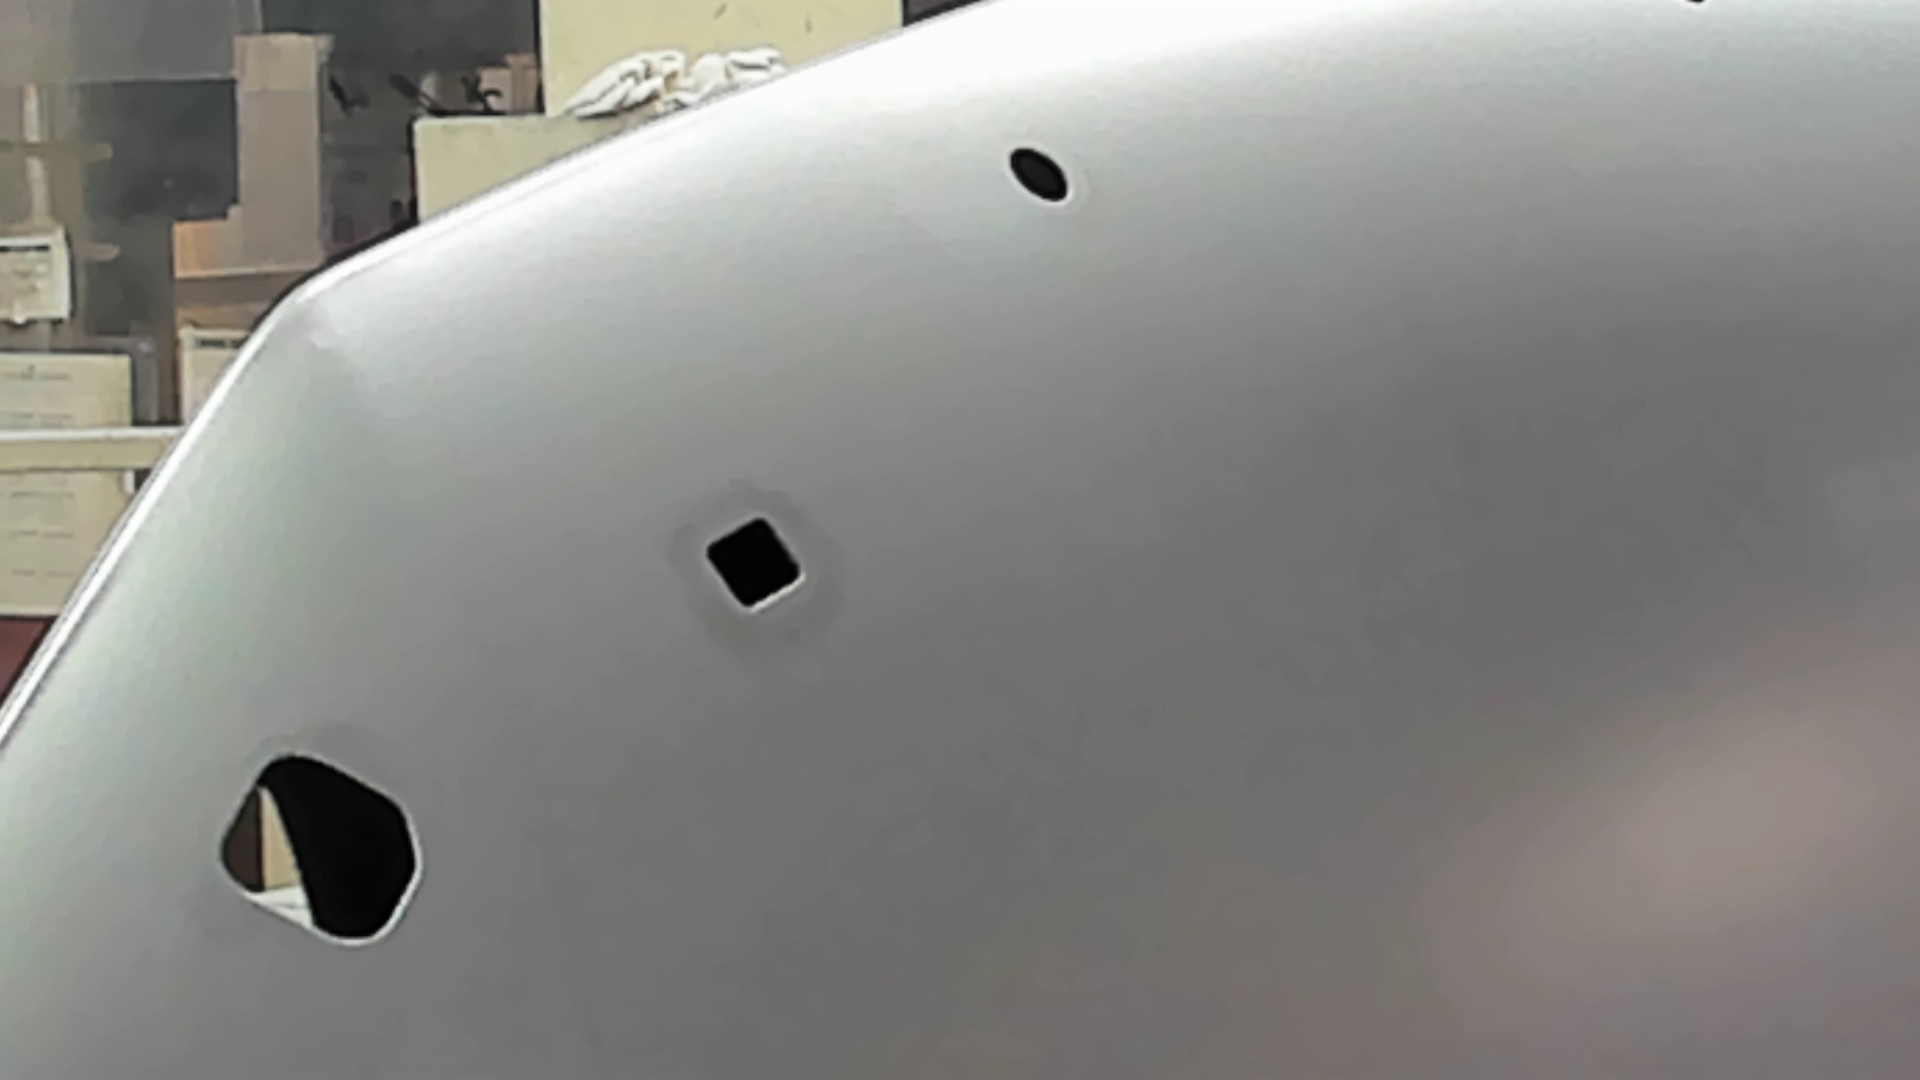chico: (1006, 146, 1073, 208)
grande: (210, 742, 429, 949)
mediano: (695, 510, 816, 622)
